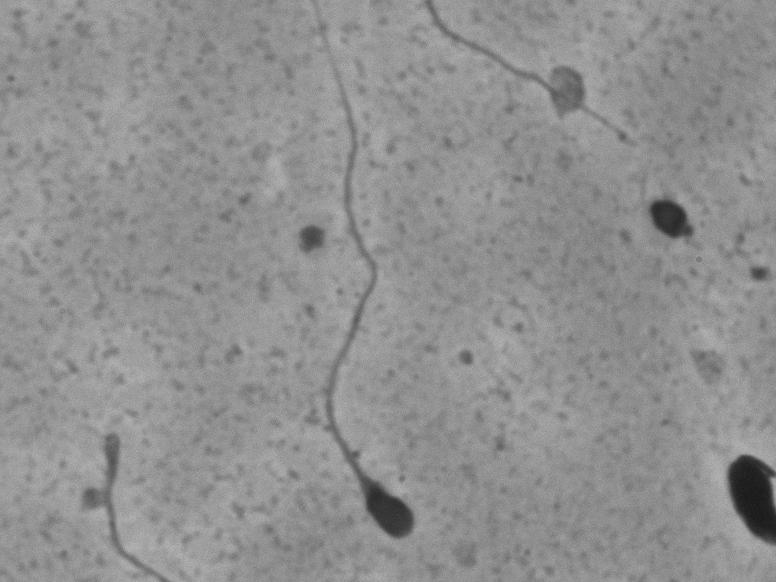Abnormal: (279, 26, 433, 553)
